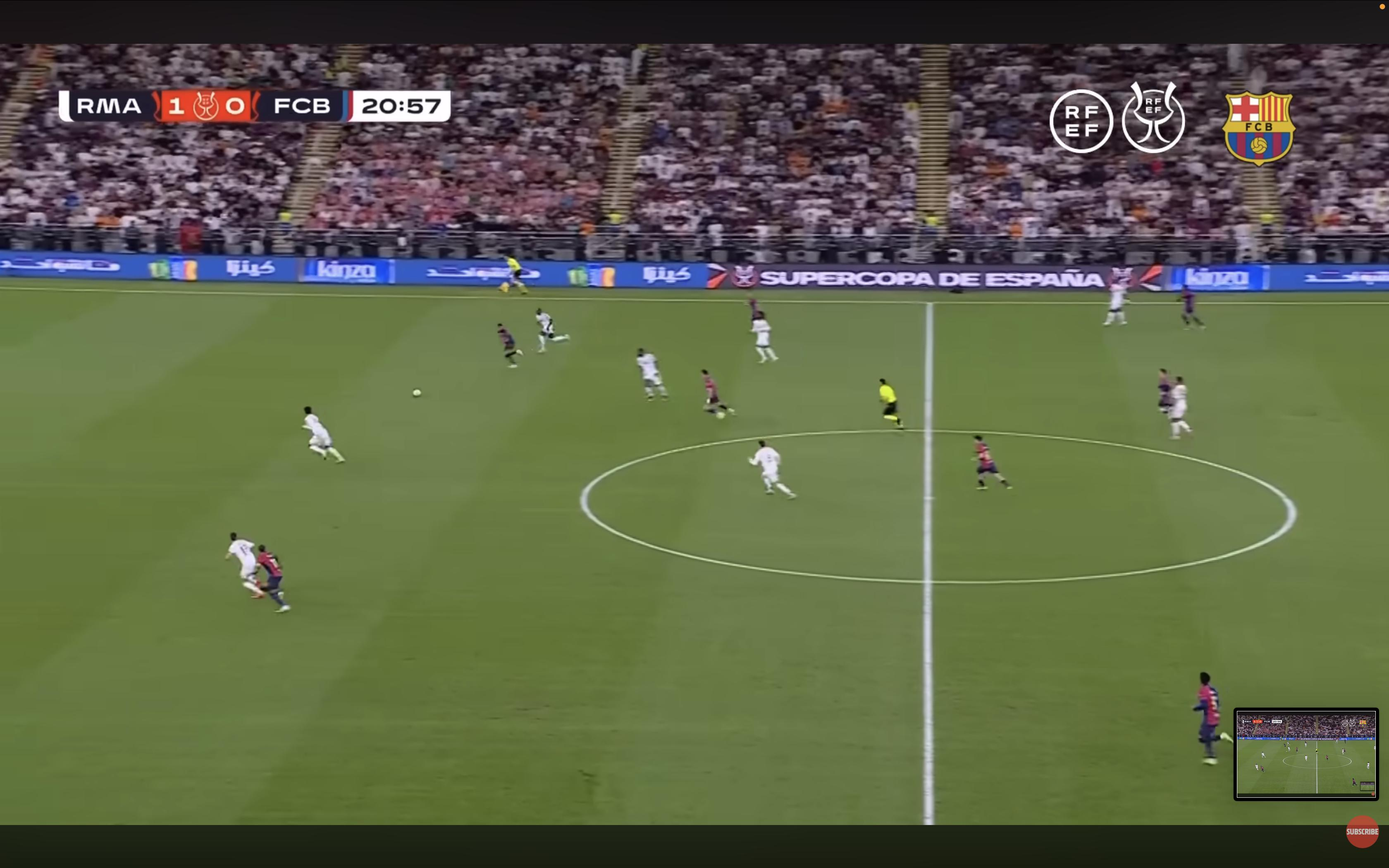ball: (412, 389, 422, 397)
player: (1193, 672, 1233, 765), (749, 440, 796, 498), (224, 533, 263, 598), (302, 406, 344, 463), (257, 545, 290, 612), (974, 435, 1011, 490), (636, 348, 668, 401), (702, 370, 735, 419), (1168, 376, 1193, 440), (1104, 269, 1131, 326), (536, 308, 569, 352), (751, 312, 778, 363), (497, 324, 523, 368), (1180, 287, 1205, 330), (1158, 368, 1172, 415), (747, 297, 761, 320)
referee: (878, 379, 904, 429), (500, 256, 528, 295)
